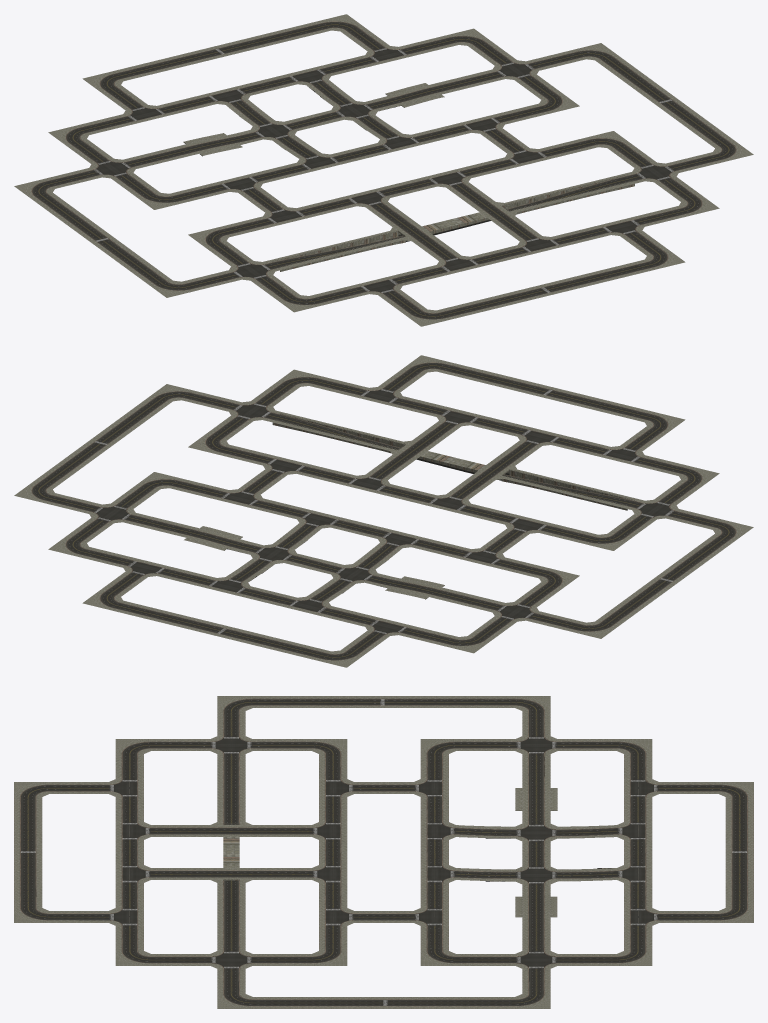
Rendered from city_base_road.glb.
3 renders of one model, top to bottom at view 1: azimuth 30°, elevation 25°; view 2: azimuth 150°, elevation 25°; view 3: azimuth 270°, elevation 25°, orthographic. The views are drawn at different scales.
Visible parts, largest first — view 1: Double_Block_10_B; view 2: Double_Block_10_B; view 3: Double_Block_10_B.
Part boxes in pixels (x1,y1,x2,y2): Double_Block_10_B: [14, 14, 753, 326]; Double_Block_10_B: [14, 355, 753, 667]; Double_Block_10_B: [14, 696, 753, 1008].
Bounding box in the file's own units: 728 × 7.87 × 728.
1 material, 1 textured.
